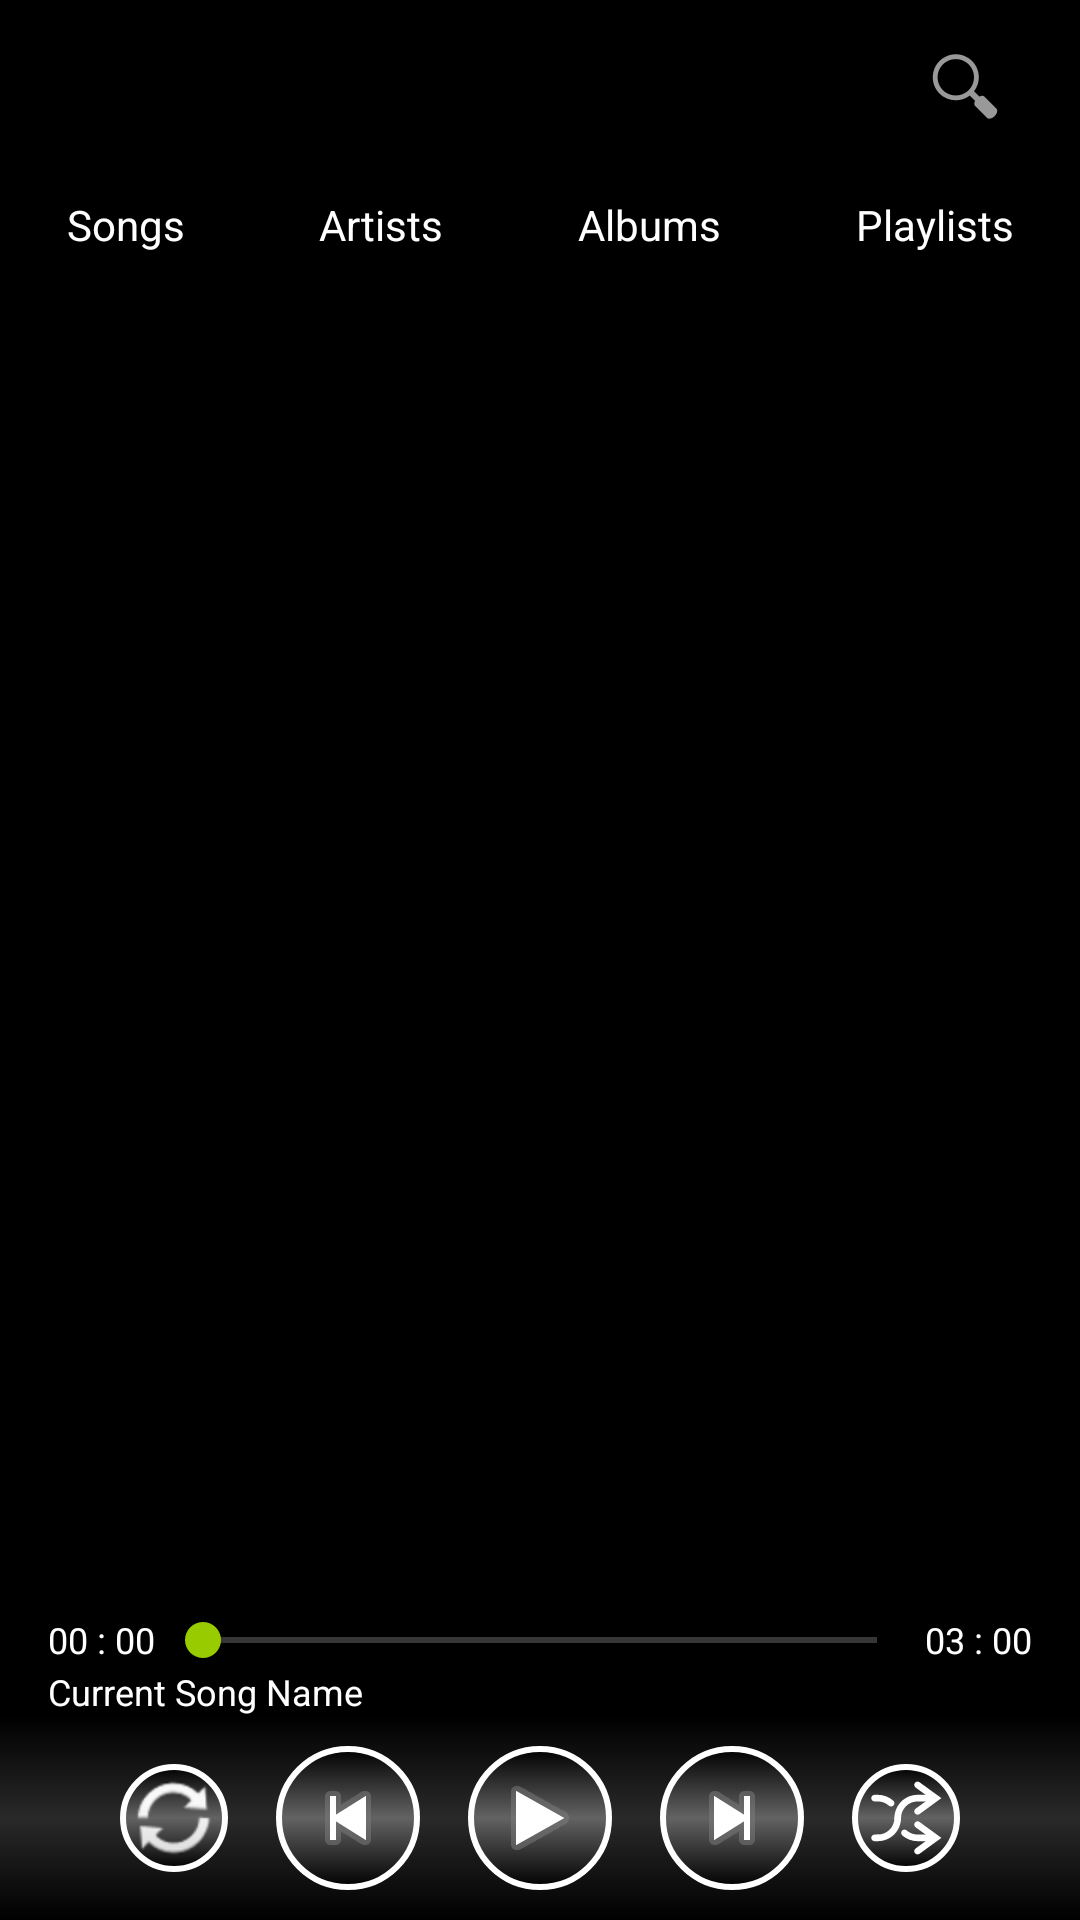

Where icons sit on this 1080px×1920px app screen, as (x1, y1, x2, y2):
next: (660, 1746, 804, 1890)
play: (468, 1746, 612, 1890)
popup sync: (120, 1764, 228, 1872)
previous: (276, 1746, 420, 1890)
search: (932, 54, 998, 119)
shuffle: (852, 1764, 960, 1872)
